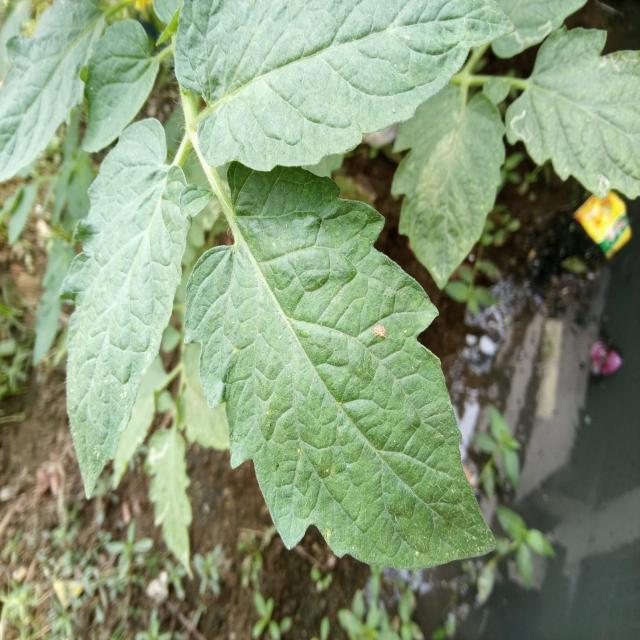Healthy: (138, 116, 514, 621), (15, 107, 216, 505), (175, 0, 511, 170), (366, 76, 518, 295)
